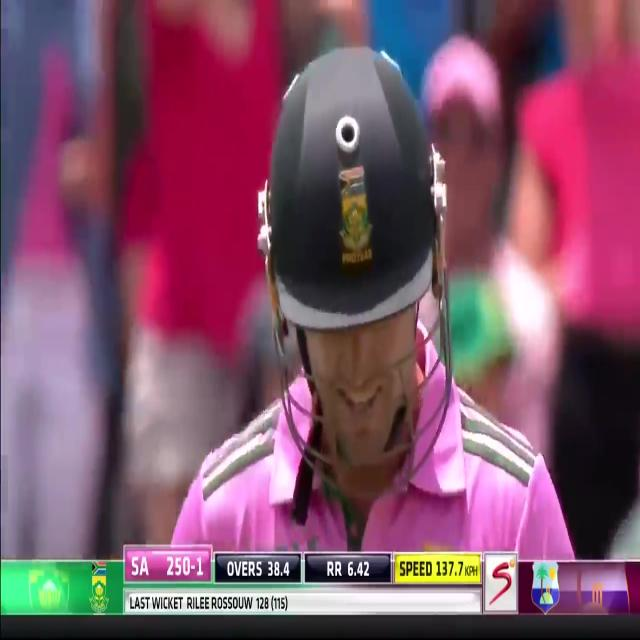Ball: (163, 37, 579, 557)
